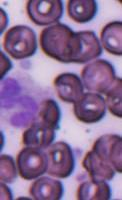N: (0, 75, 41, 127)
